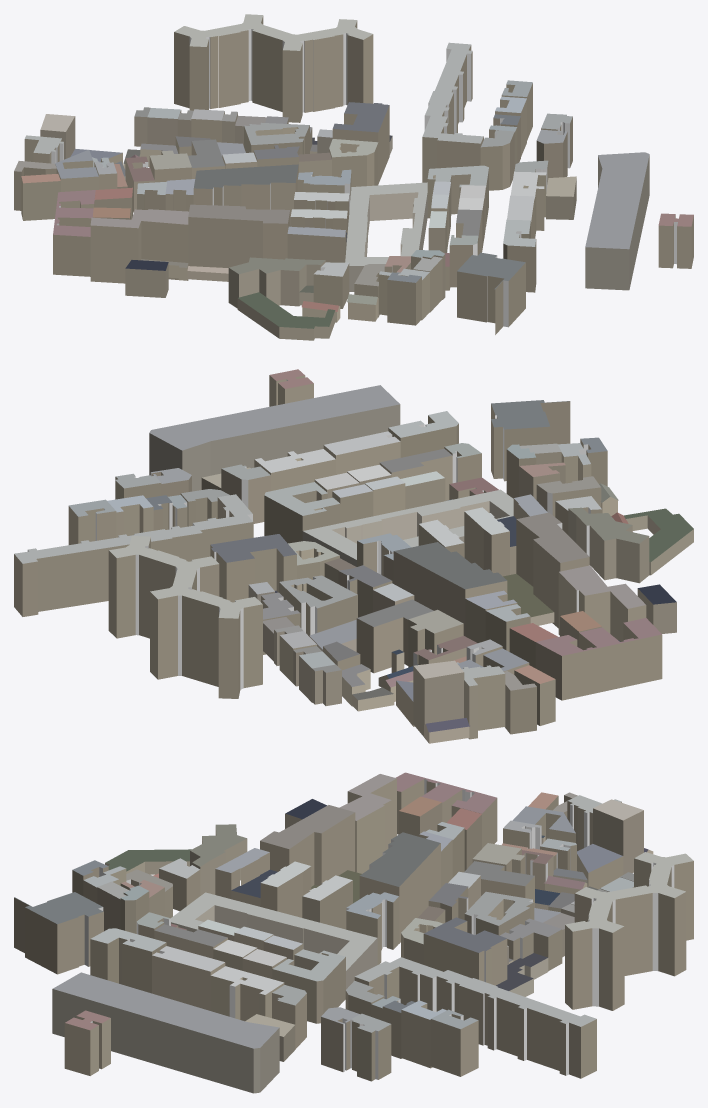
The picture shows the model from 3 angles, top to bottom: view 1: azimuth 30°, elevation 25°; view 2: azimuth 150°, elevation 25°; view 3: azimuth 270°, elevation 25°; orthographic projection. The views are drawn at different scales.
Parts seen in each view (by area): view 1: tuile; view 2: tuile; view 3: tuile.
Boxes of the visible parts, bbox=[...] form: tuile: bbox=[14, 14, 693, 340]; tuile: bbox=[14, 369, 693, 743]; tuile: bbox=[14, 772, 693, 1093].
Size of the model in its own units: 291 by 48.53 by 299.
